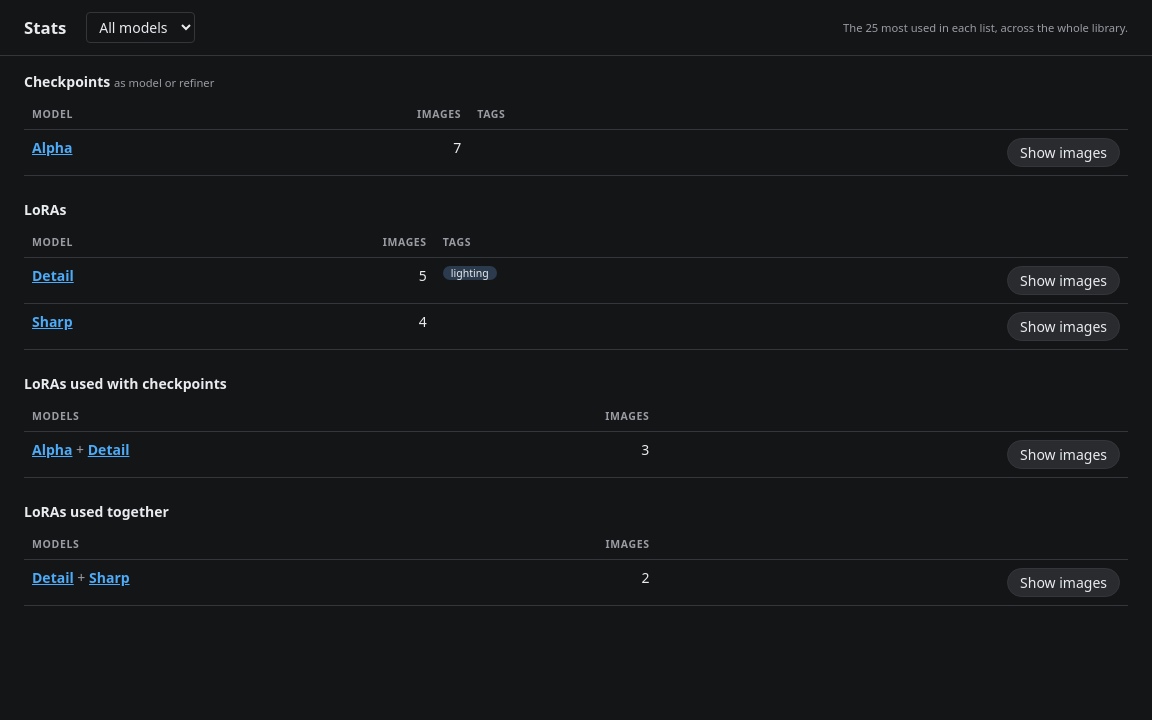
Test: StatsView › offers to try again when switching to a tag fails, without the previous tag’s tables
The image size is (1152, 720).
Select "lighting (1)" in the dropdown named "Model tag" at (141, 28), box [86,12,195,43]
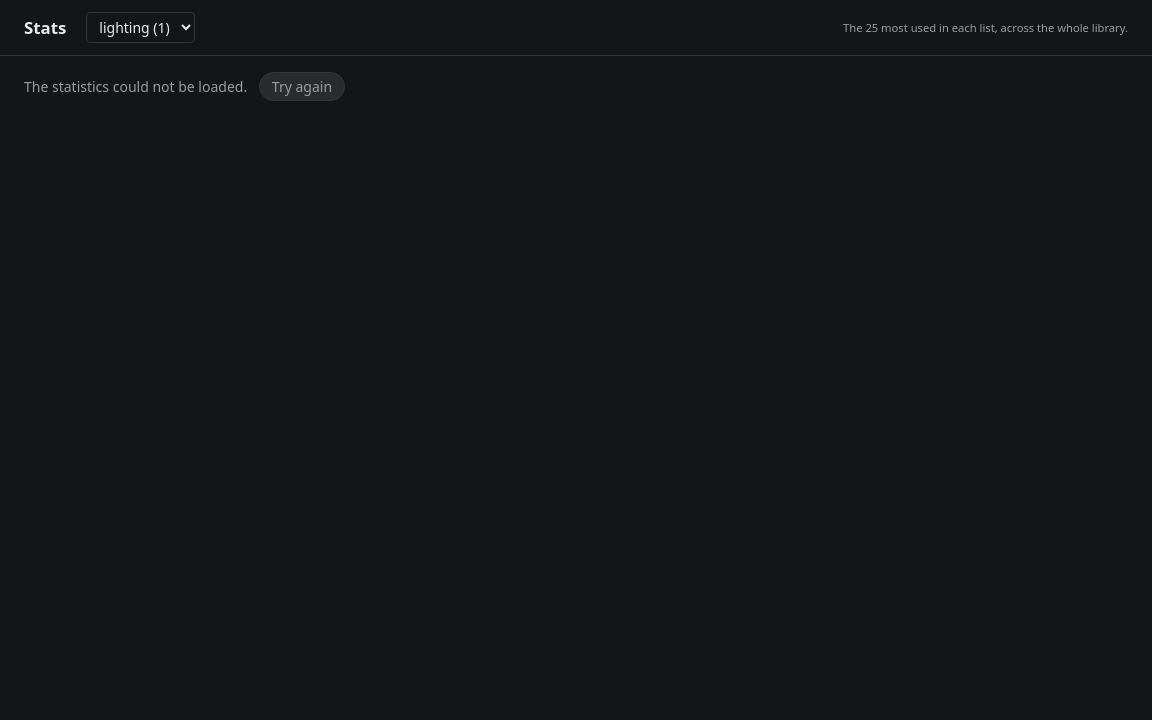
Result: the text "The statistics could not be loaded." is shown at [24,77,251,96]
Result: the button "Try again" is shown at [259,72,345,101]
Result: no links "Sharp" are shown
